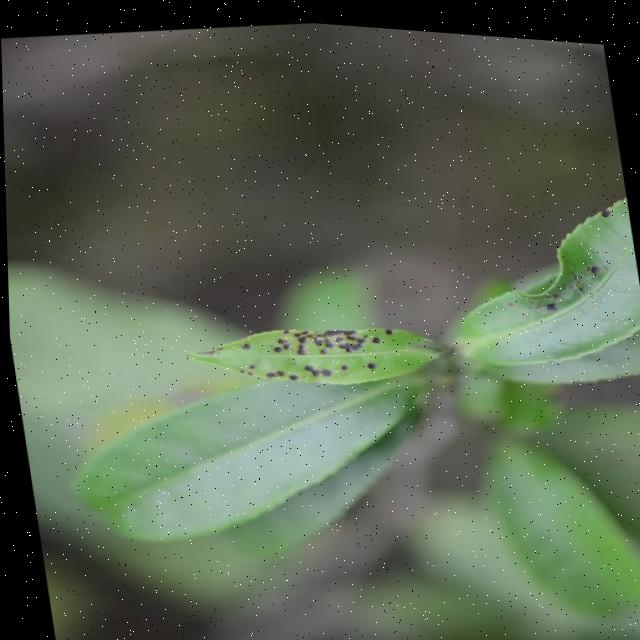Tea red scab: (203, 296, 388, 375), (231, 329, 355, 395)
